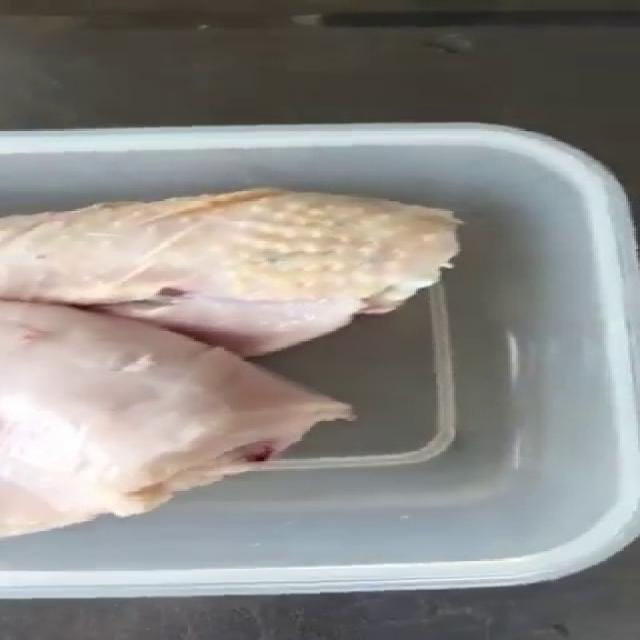chicken: (0, 187, 464, 537)
